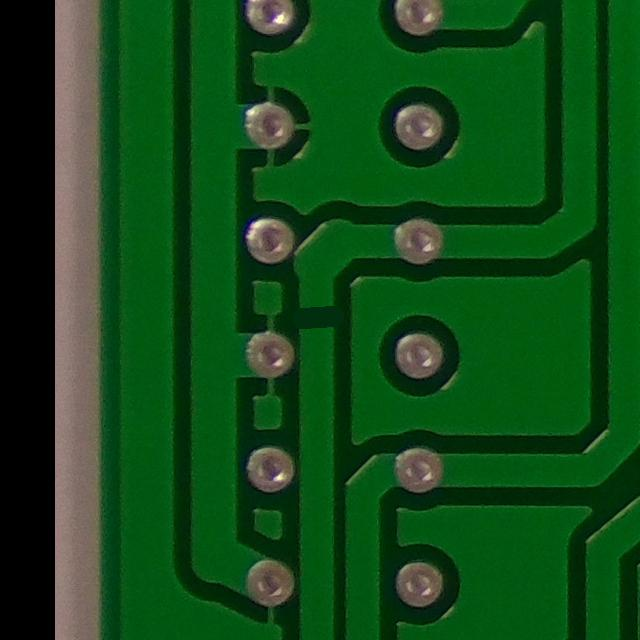open_circuit: (294, 289, 346, 351)
